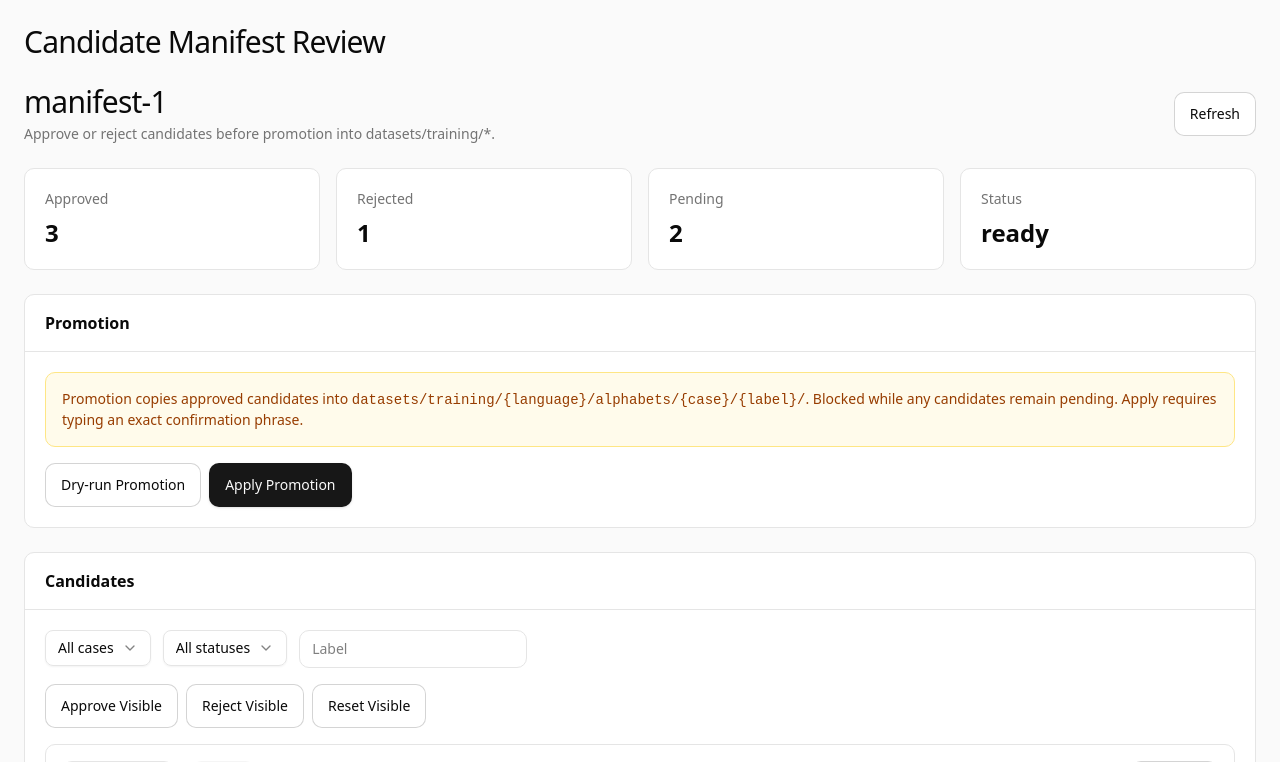
Test: MLHandwritingCandidateManifestDetailPage › runs a promotion dry-run and shows per-class impact
Click the button "Dry-run Promotion": (123, 485) [45,463,201,507]
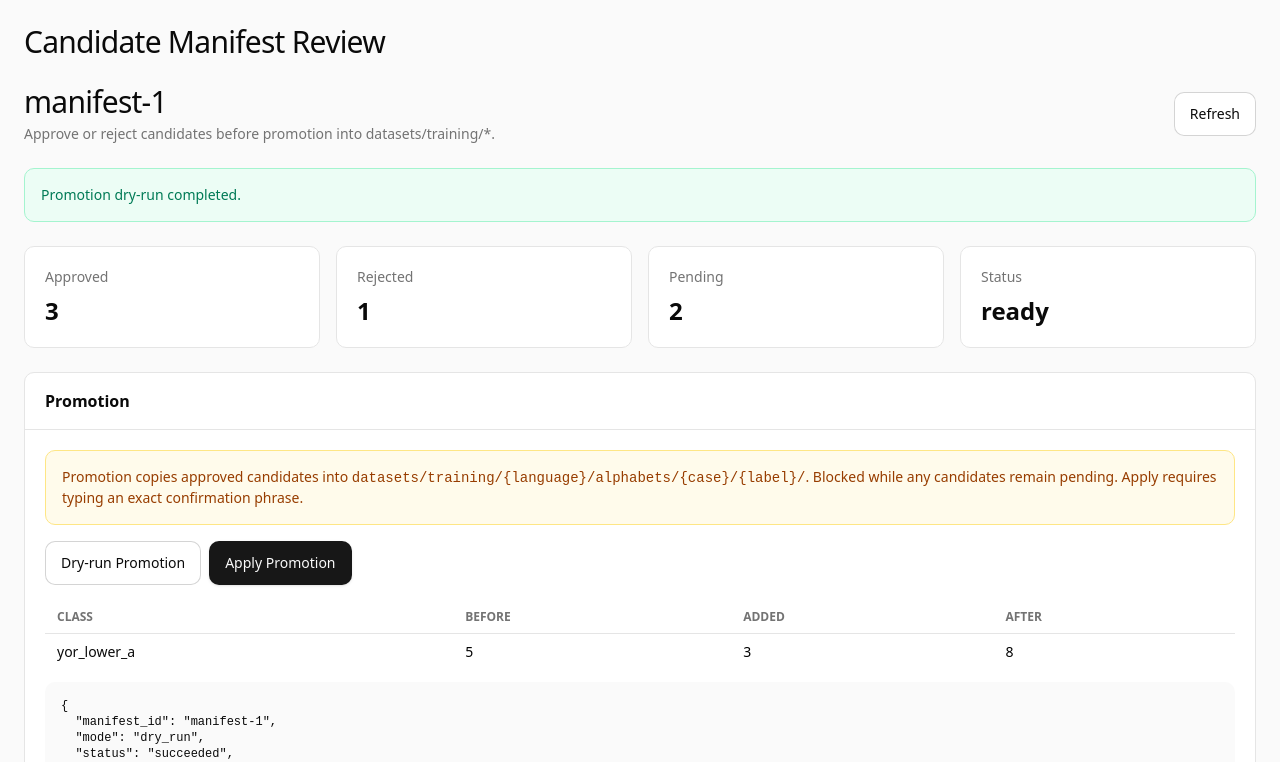
Check: the text "yor_lower_a" is shown, box [45,634,453,670]
